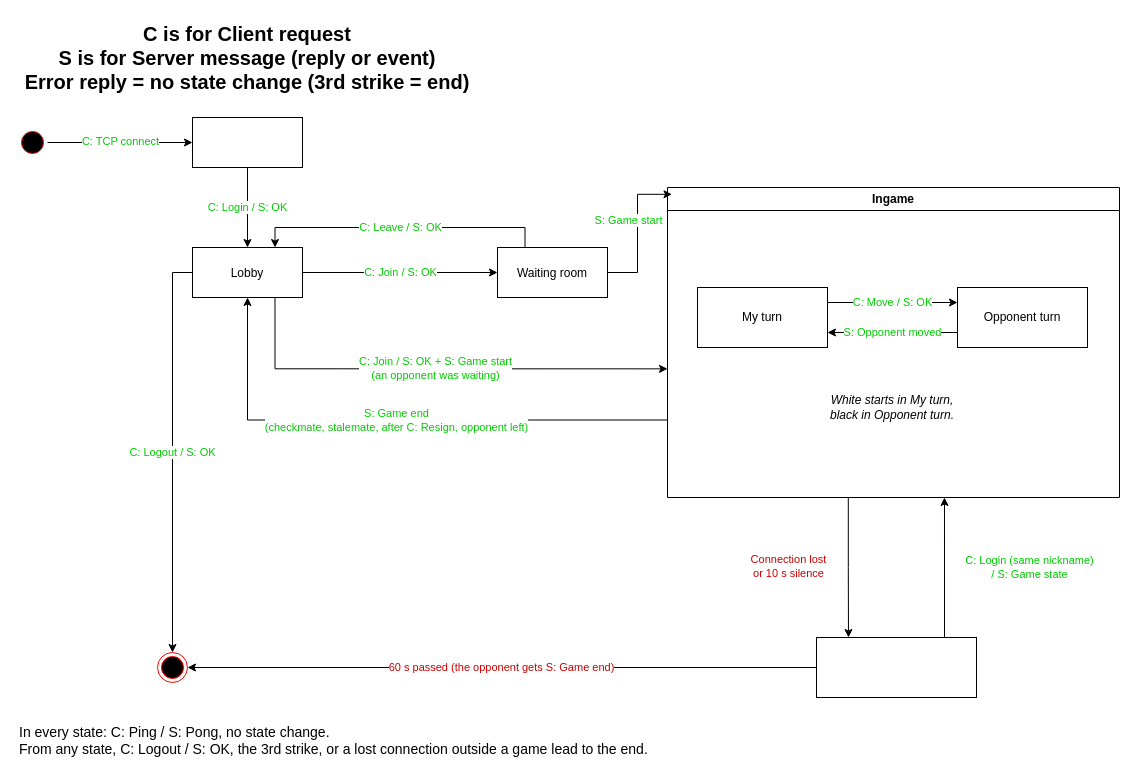
Some shapes in this 1137 by 784 pixel diagram are drawn without their labels. The centre of each missing label's shape, as x and y in pixels:
Disconnected (still in the game, kept 60 s): the point at 896,667
Login: the point at 247,142
